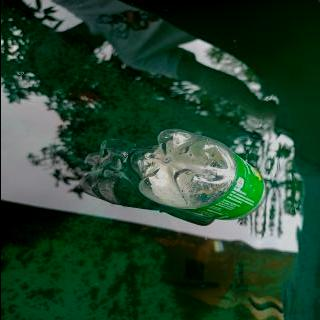bottle: (127, 126, 271, 222)
